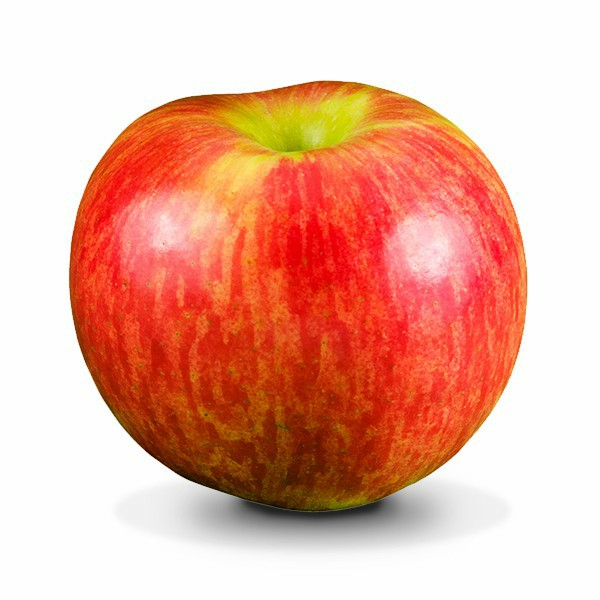fresh_apple: (67, 80, 525, 514)
